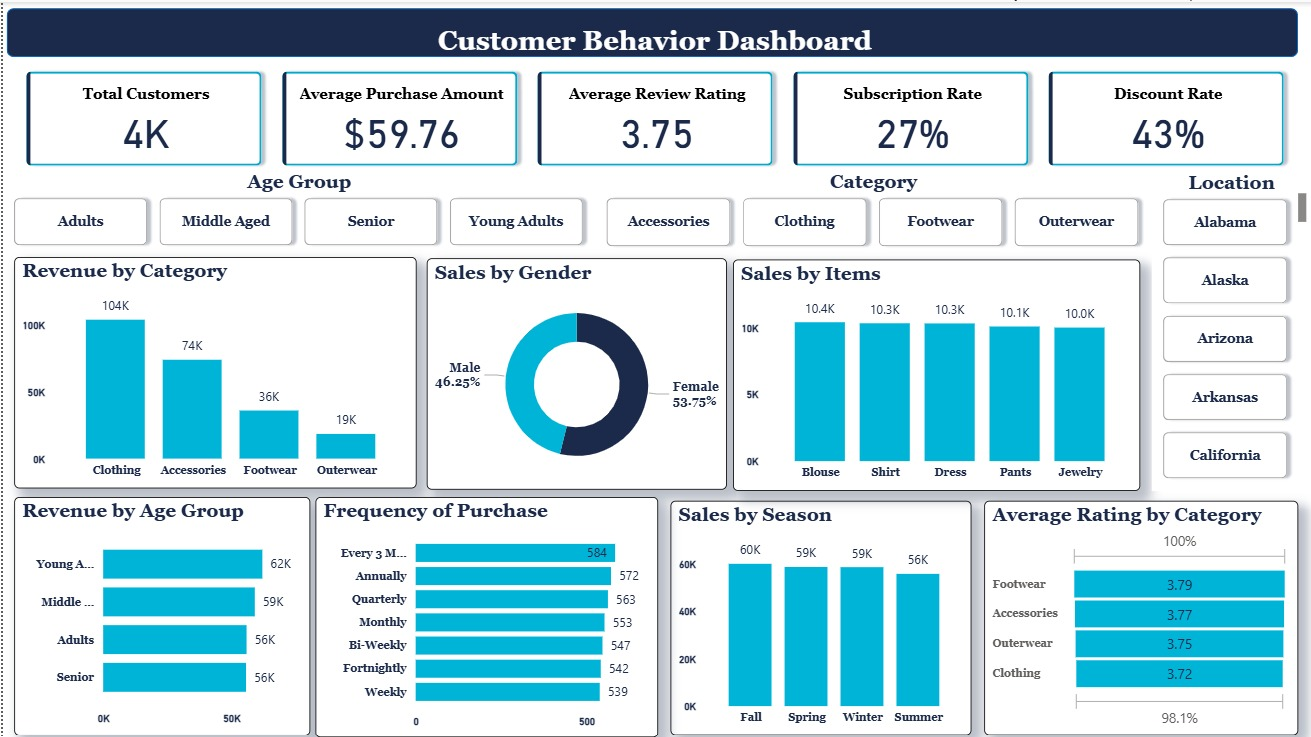

Layout of this report page (visuals, bound fields, positions):
{"tool":"powerbi","page":{"name":"Page 1","canvas":[1280,720],"ordinal":0},"visuals":[{"type":"cardVisual","fields":{"Data":["customers custom.Number of Customer","customers custom.Average Purchase Amount","customers custom.Average Review Rating","customers custom.Subscription Rate","customers custom.Discount Rate"]},"box":[0,45.2,1280.3,138.2],"z":0},{"type":"shape","box":[3.7,6.1,1263.2,47.7],"z":1000},{"type":"textbox","box":[420.7,17.1,859.7,74.6],"z":2000},{"type":"advancedSlicerVisual","title":"Category","fields":{"Values":["customers custom.category"]},"box":[579.6,165.1,544.2,85.6],"z":3000},{"type":"advancedSlicerVisual","title":"Age Group ","fields":{"Values":["customers custom.age_group"]},"box":[0,165.1,579.6,84.4],"z":4000},{"type":"columnChart","title":"Revenue by Category","fields":{"Category":["customers custom.category"],"Y":["Sum(customers custom.purchase_amount)"]},"box":[11,249.5,393.8,226.2],"z":5000},{"type":"donutChart","title":"Sales by Gender","fields":{"Category":["customers custom.gender"],"Y":["Sum(customers custom.customer_id)"]},"box":[414.5,250.7,293.5,226.2],"z":6000},{"type":"clusteredBarChart","title":"Revenue by Age Group ","fields":{"Y":["Sum(customers custom.purchase_amount)"],"Category":["customers custom.age_group"]},"box":[11,484.2,289.8,233.6],"z":7000},{"type":"clusteredColumnChart","title":"Sales by Season","fields":{"Category":["customers custom.season"],"Y":["Sum(customers custom.purchase_amount)"]},"box":[653,487.9,294.7,229.9],"z":8000},{"type":"clusteredBarChart","title":"Frequency of Purchase ","fields":{"Category":["customers custom.frequency_of_purchases"],"Y":["CountNonNull(customers custom.customer_id)"]},"box":[305.7,484.2,335.1,236],"z":9000},{"type":"clusteredColumnChart","title":"Sales by Items","fields":{"Category":["customers custom.item_purchased"],"Y":["Sum(customers custom.purchase_amount)"]},"box":[714.1,251.9,398.6,226.2],"z":10000},{"type":"funnel","title":"Average Rating by Category","fields":{"Category":["customers custom.category"],"Y":["Avg(customers custom.review_rating)"]},"box":[959.9,487.9,306.9,229.9],"z":11000},{"type":"advancedSlicerVisual","title":"Location","fields":{"Values":["customers custom.location"]},"box":[1123.5,166.3,156.5,311.8],"z":12000}]}

Visuals, with their boxes in screenshot pixels (x1, y1, x2, y2), scaled from the page's 1280x720 canvas onto the 1311x737 screenshot:
cardVisual - customers custom.Number of Customer x customers custom.Average Purchase Amount: <bbox>0, 46, 1310, 188</bbox>
shape: <bbox>4, 6, 1298, 55</bbox>
textbox: <bbox>431, 18, 1310, 94</bbox>
"Category" advancedSlicerVisual: <bbox>594, 169, 1151, 257</bbox>
"Age Group " advancedSlicerVisual: <bbox>0, 169, 594, 255</bbox>
"Revenue by Category" columnChart: <bbox>11, 255, 415, 487</bbox>
"Sales by Gender" donutChart: <bbox>425, 257, 725, 488</bbox>
"Revenue by Age Group " clusteredBarChart: <bbox>11, 496, 308, 735</bbox>
"Sales by Season" clusteredColumnChart: <bbox>669, 499, 971, 735</bbox>
"Frequency of Purchase " clusteredBarChart: <bbox>313, 496, 656, 736</bbox>
"Sales by Items" clusteredColumnChart: <bbox>731, 258, 1140, 489</bbox>
"Average Rating by Category" funnel: <bbox>983, 499, 1297, 735</bbox>
"Location" advancedSlicerVisual: <bbox>1151, 170, 1310, 489</bbox>
